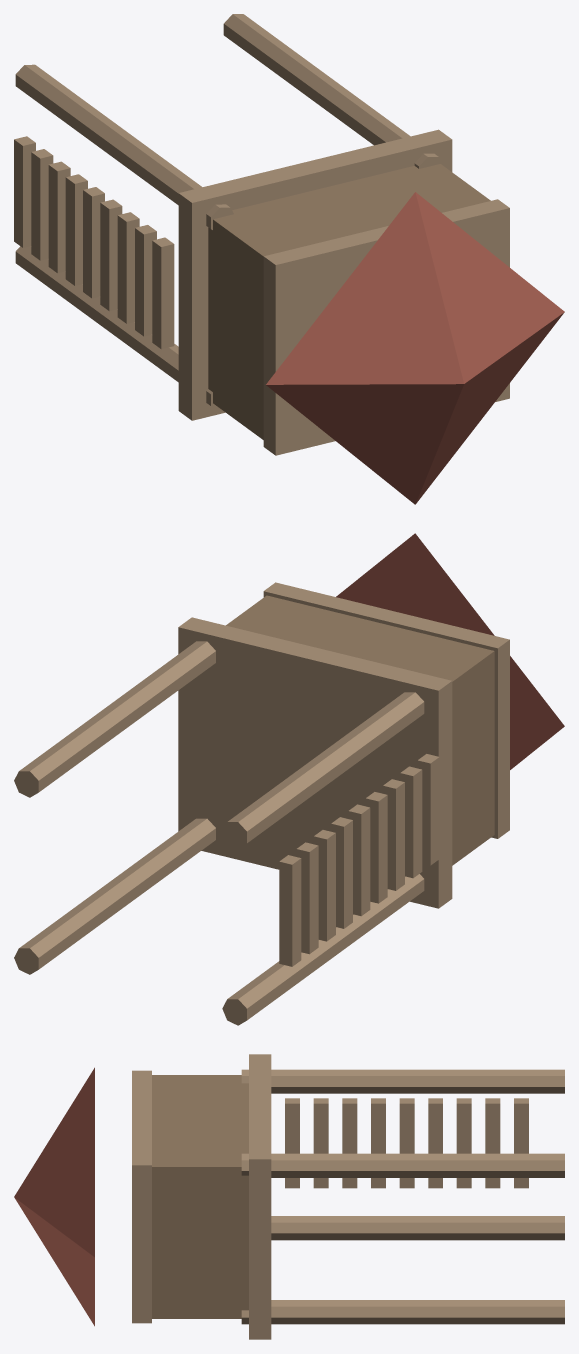
Rendered from watch_tower.glb.
3 renders of one model, top to bottom at view 1: azimuth 30°, elevation 25°; view 2: azimuth 150°, elevation 25°; view 3: azimuth 270°, elevation 25°, orthographic. The views are drawn at different scales.
Parts seen in each view (by area): view 1: watch_tower_7, watch_tower_5, watch_tower_4, watch_tower_6, watch_tower_1, watch_tower_3, watch_tower_0, watch_tower_16, watch_tower_9, watch_tower_10, watch_tower_11, watch_tower_13 (+4 smaller); view 2: watch_tower_4, watch_tower_5, watch_tower_7, watch_tower_1, watch_tower_3, watch_tower_2, watch_tower_6, watch_tower_0, watch_tower_8, watch_tower_9, watch_tower_10, watch_tower_16 (+5 smaller); view 3: watch_tower_5, watch_tower_7, watch_tower_3, watch_tower_2, watch_tower_1, watch_tower_0, watch_tower_4, watch_tower_6, watch_tower_9, watch_tower_10, watch_tower_12, watch_tower_14 (+5 smaller).
Boxes of the visible parts, x1=… form: watch_tower_7: x1=266, y1=192, x2=564, y2=504; watch_tower_5: x1=208, y1=164, x2=490, y2=439; watch_tower_4: x1=178, y1=129, x2=452, y2=420; watch_tower_6: x1=263, y1=199, x2=509, y2=455; watch_tower_1: x1=15, y1=64, x2=233, y2=229; watch_tower_3: x1=223, y1=14, x2=443, y2=168; watch_tower_0: x1=15, y1=246, x2=221, y2=411; watch_tower_16: x1=152, y1=237, x2=174, y2=349; watch_tower_9: x1=31, y1=149, x2=53, y2=260; watch_tower_10: x1=48, y1=161, x2=70, y2=273; watch_tower_11: x1=65, y1=174, x2=87, y2=285; watch_tower_13: x1=100, y1=199, x2=122, y2=311; watch_tower_4: x1=178, y1=617, x2=452, y2=908; watch_tower_5: x1=226, y1=595, x2=494, y2=865; watch_tower_7: x1=336, y1=533, x2=564, y2=769; watch_tower_1: x1=222, y1=692, x2=424, y2=848; watch_tower_3: x1=14, y1=641, x2=215, y2=797; watch_tower_2: x1=14, y1=818, x2=215, y2=974; watch_tower_6: x1=263, y1=582, x2=509, y2=838; watch_tower_0: x1=222, y1=874, x2=424, y2=1025; watch_tower_8: x1=279, y1=855, x2=301, y2=966; watch_tower_9: x1=296, y1=842, x2=318, y2=954; watch_tower_10: x1=313, y1=830, x2=335, y2=941; watch_tower_16: x1=417, y1=754, x2=439, y2=865; watch_tower_5: x1=152, y1=1075, x2=248, y2=1318; watch_tower_7: x1=14, y1=1067, x2=94, y2=1326; watch_tower_3: x1=241, y1=1153, x2=564, y2=1177; watch_tower_2: x1=241, y1=1300, x2=564, y2=1324; watch_tower_1: x1=241, y1=1069, x2=564, y2=1093; watch_tower_0: x1=271, y1=1216, x2=564, y2=1240; watch_tower_4: x1=249, y1=1054, x2=271, y2=1339; watch_tower_6: x1=132, y1=1070, x2=151, y2=1323; watch_tower_9: x1=485, y1=1098, x2=500, y2=1188; watch_tower_10: x1=456, y1=1098, x2=471, y2=1188; watch_tower_12: x1=399, y1=1098, x2=414, y2=1188; watch_tower_14: x1=342, y1=1098, x2=357, y2=1188.
Size of the model in its own units: 2.3 by 2.3 by 4.43.
